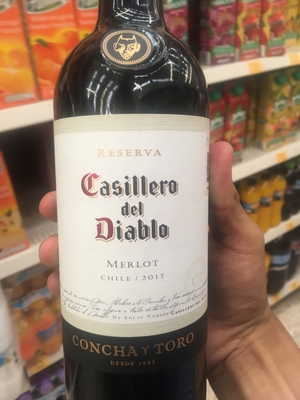casillero del diablo merlot: (49, 19, 230, 400)
